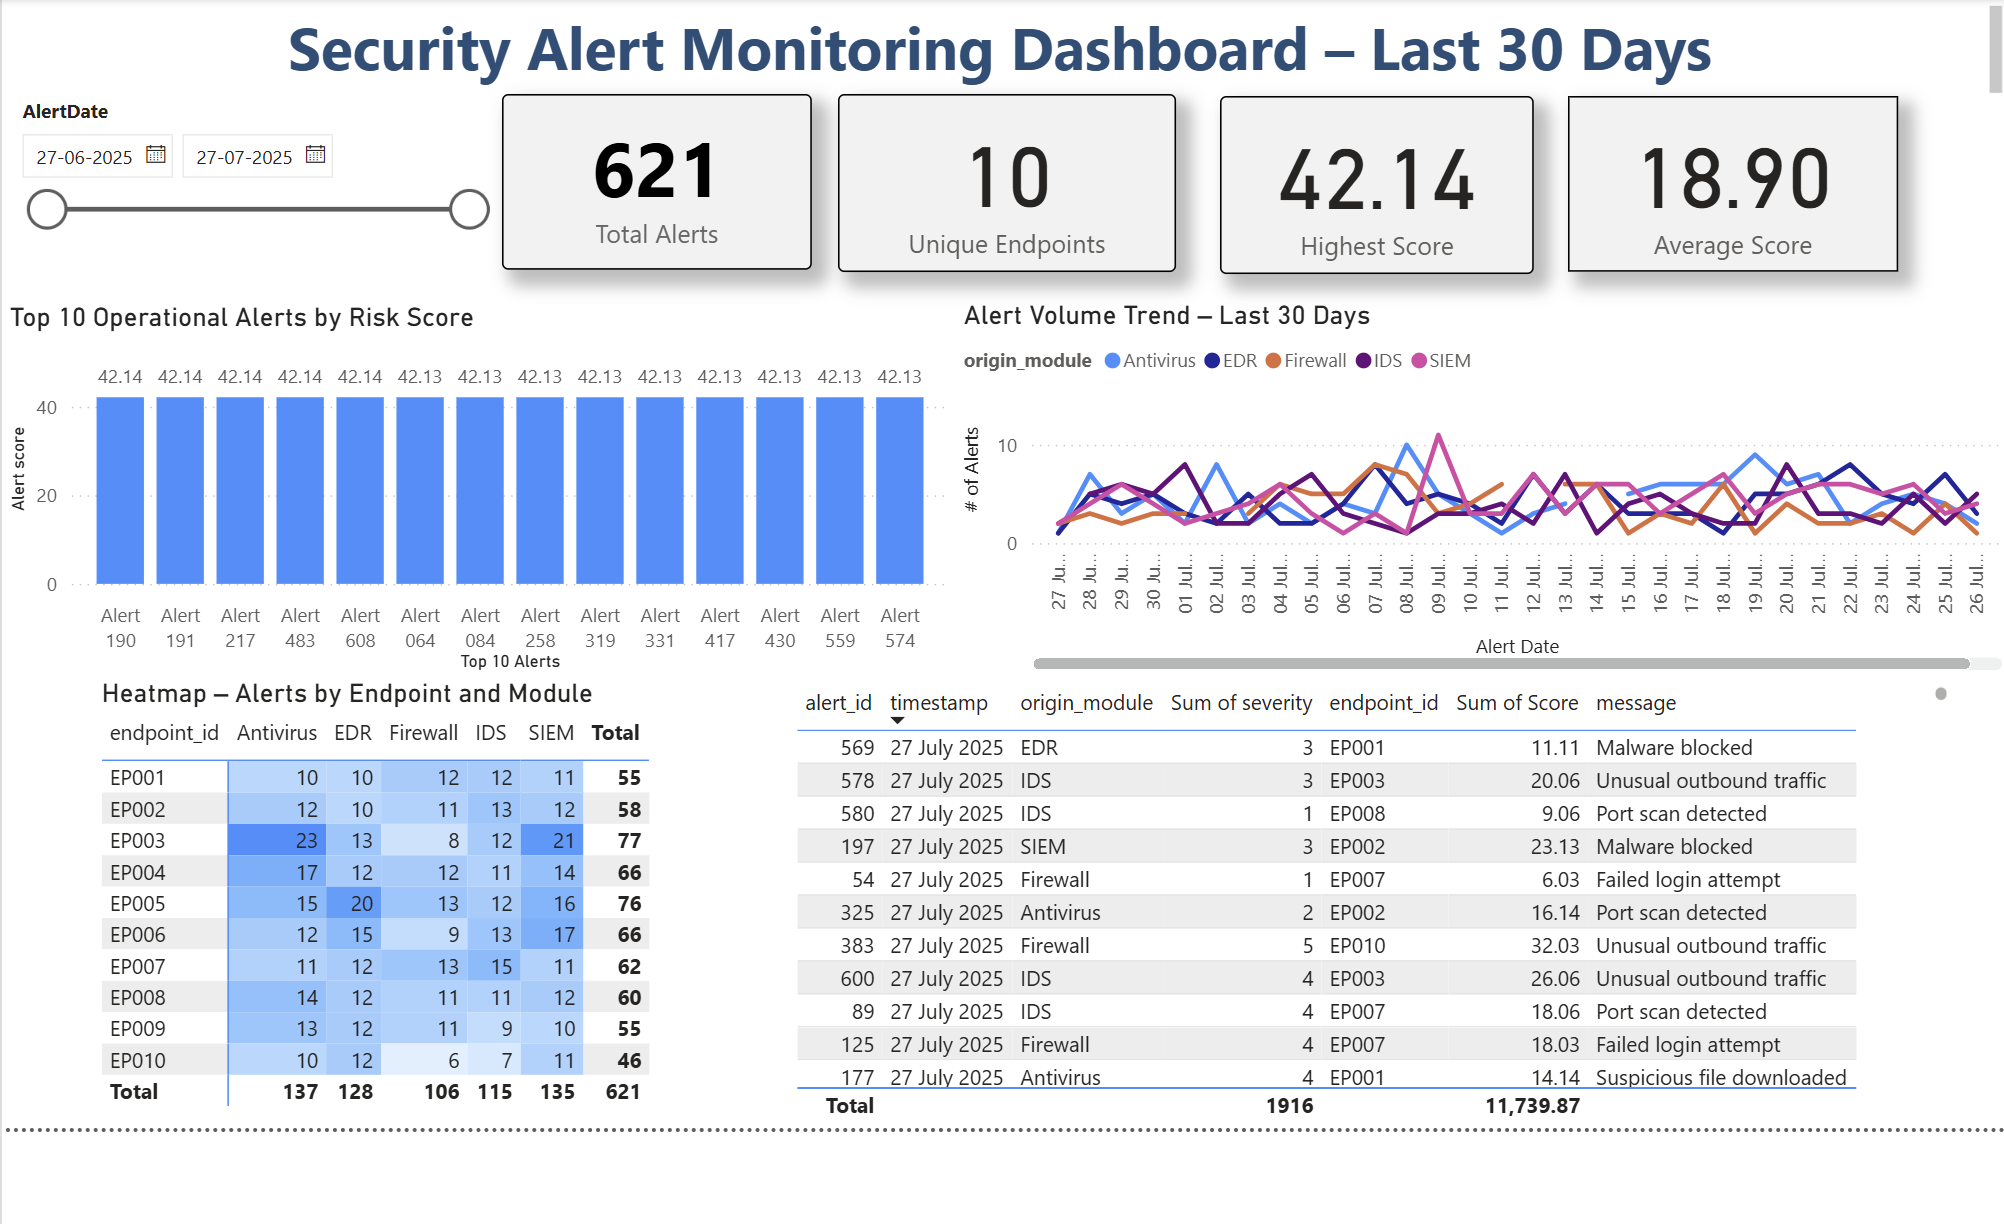

What the dashboard file says about the page in this screenshot:
{"tool":"powerbi","page":{"name":"Page 1","canvas":[1280,720],"ordinal":0},"visuals":[{"type":"clusteredColumnChart","title":"Top 10 Operational Alerts by Risk Score","fields":{"Category":["sample_alerts.alert_id_label"],"Y":["Sum(sample_alerts.Score)"]},"box":[0,193.8,608.1,239.7],"z":0},{"type":"lineChart","title":"Alert Volume Trend – Last 30 Days","fields":{"Y":["CountNonNull(sample_alerts.alert_id)"],"Category":["sample_alerts.AlertDate"],"Series":["sample_alerts.origin_module"]},"box":[608.1,192.5,671.9,241],"z":1000},{"type":"pivotTable","title":"Heatmap – Alerts by Endpoint and Module","fields":{"Columns":["sample_alerts.origin_module"],"Rows":["sample_alerts.endpoint_id"],"Values":["CountNonNull(sample_alerts.alert_id)"]},"box":[58.6,433.5,442.4,288.1],"z":2000},{"type":"tableEx","fields":{"Values":["sample_alerts.alert_id","sample_alerts.timestamp","sample_alerts.origin_module","Sum(sample_alerts.severity)","sample_alerts.endpoint_id","Sum(sample_alerts.Score)","sample_alerts.message"]},"box":[501,433.5,744.5,286.9],"z":3000},{"type":"textbox","box":[0,0,1280,71.4],"z":4000},{"type":"slicer","fields":{"Values":["sample_alerts.AlertDate"]},"box":[0,58.6,318.7,114.7],"z":6000},{"type":"card","fields":{"Values":["CountNonNull(sample_alerts.alert_id)"]},"box":[318.7,61.2,197.6,112.2],"z":7000},{"type":"card","fields":{"Values":["Count(endpoints.endpoint_id)"]},"box":[532.9,61.2,215.5,113.5],"z":8000},{"type":"card","fields":{"Values":["Max(sample_alerts.Score)"]},"box":[776.4,62.5,200.2,113.5],"z":9000},{"type":"card","fields":{"Values":["Avg(sample_alerts.Score)"]},"box":[998.2,62.5,210.4,112.2],"z":10000}]}

Visuals, with their boxes on the page's 1280x720 design canvas (x1, y1, x2, y2). These are canvas units, not pixel positions in the 2004x1224 screenshot, which may show the page scaled, cropped or inside an application window:
"Top 10 Operational Alerts by Risk Score" clusteredColumnChart: select_region(0, 194, 608, 434)
"Alert Volume Trend – Last 30 Days" lineChart: select_region(608, 192, 1280, 434)
"Heatmap – Alerts by Endpoint and Module" pivotTable: select_region(59, 434, 501, 722)
tableEx - sample_alerts.alert_id x sample_alerts.timestamp: select_region(501, 434, 1246, 720)
textbox: select_region(0, 0, 1280, 71)
slicer - sample_alerts.AlertDate: select_region(0, 59, 319, 173)
card - CountNonNull(sample_alerts.alert_id): select_region(319, 61, 516, 173)
card - Count(endpoints.endpoint_id): select_region(533, 61, 748, 175)
card - Max(sample_alerts.Score): select_region(776, 62, 977, 176)
card - Avg(sample_alerts.Score): select_region(998, 62, 1209, 175)
